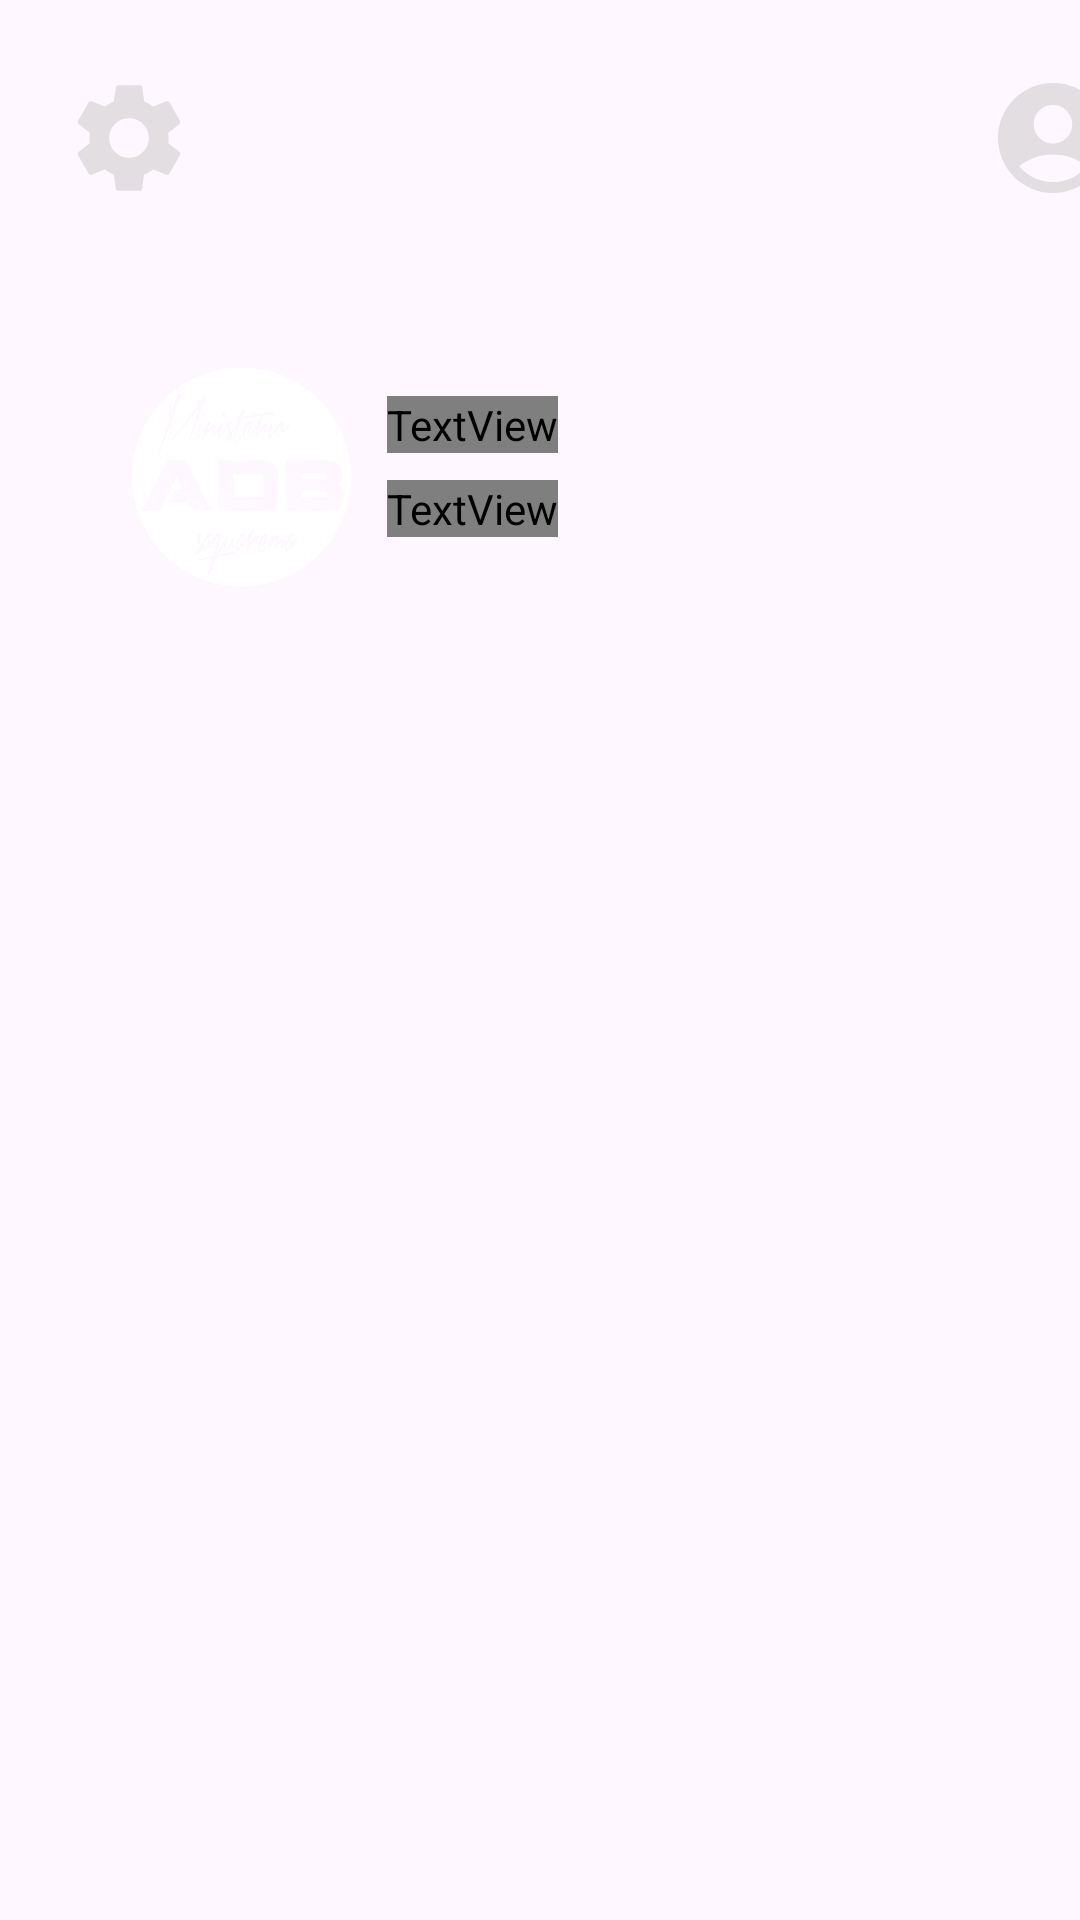

Where icons sit on this 1080x1920 app screen, as (x1=x1, y1=y1, x2=x2, y2=y2):
settings: (x1=78, y1=86, x2=180, y2=190)
